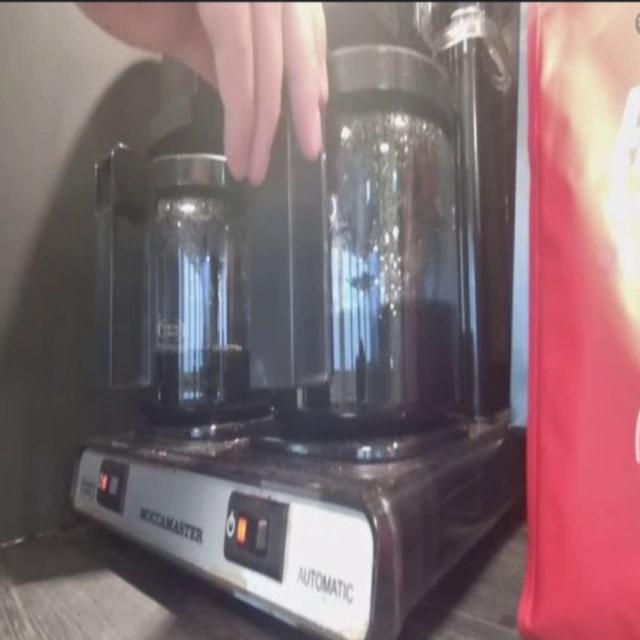coffee: (251, 23, 492, 470), (116, 121, 269, 428)
